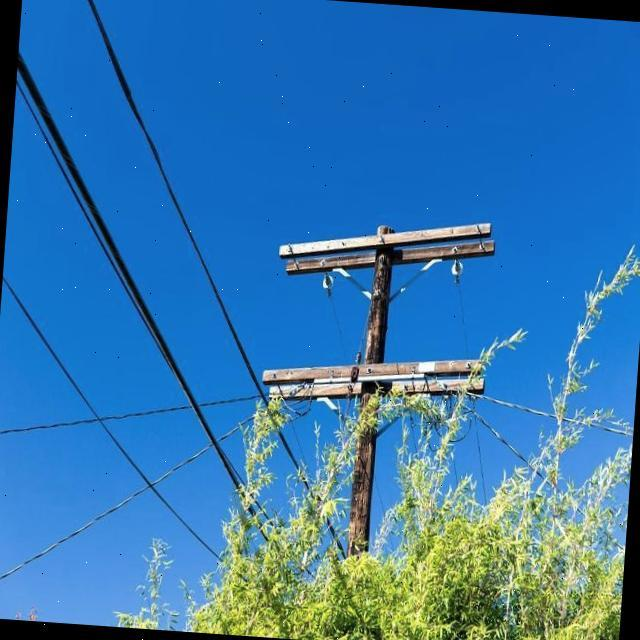critical vegetation: (232, 190, 574, 603)
